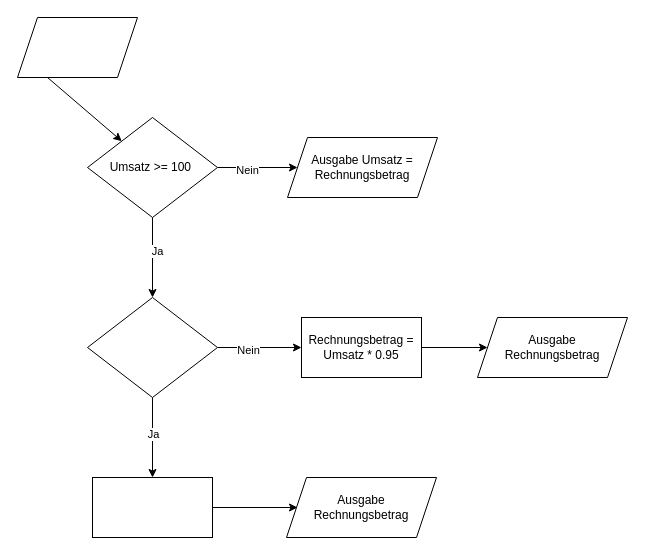
Some shapes in this 645 by 555 pixel diagram are drawn without their labels. The centre of each missing label's shape, as x and y in pixels:
"Eingabe Umsatz" belongs at pixel 77 47.
"Rechnungsbetrag = Umsatz * 0.90" belongs at pixel 152 507.
"Umsatz >= 500" belongs at pixel 152 347.
